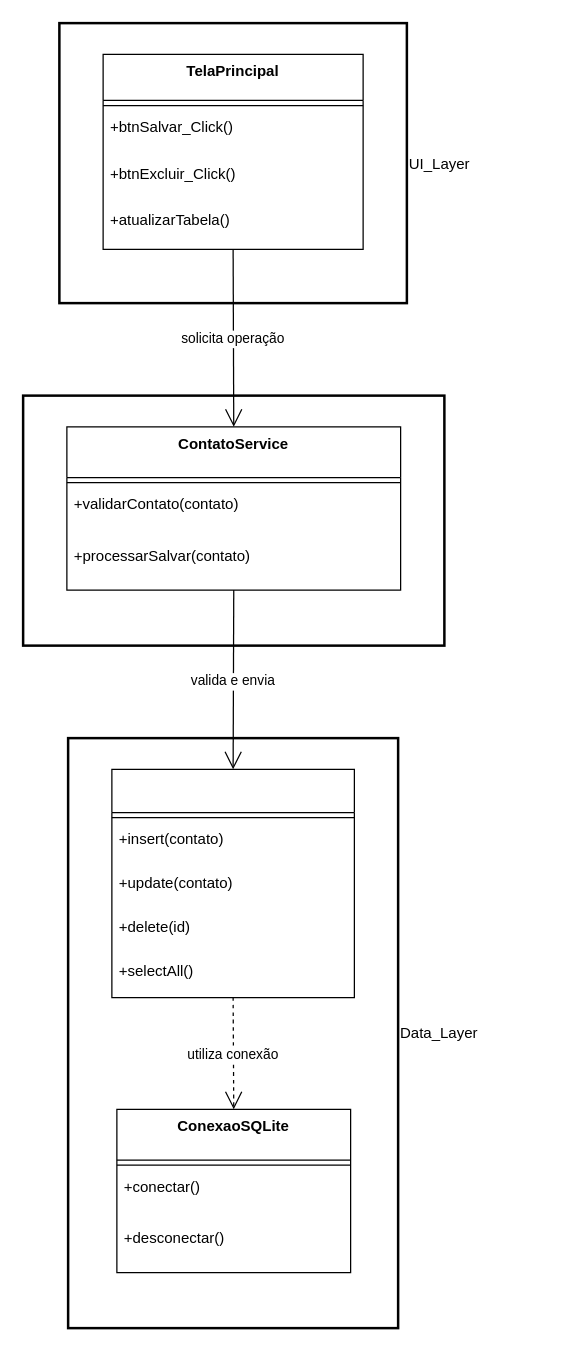
The diagram is 574 pixels wide and 1350 high, and some of its shapes have lost their labels. The box of each missing label's shape, as (x1, y1, x2, y2) in pixels:
Business_Layer: (21, 394, 445, 646)
ContatoDAO: (111, 768, 354, 998)
